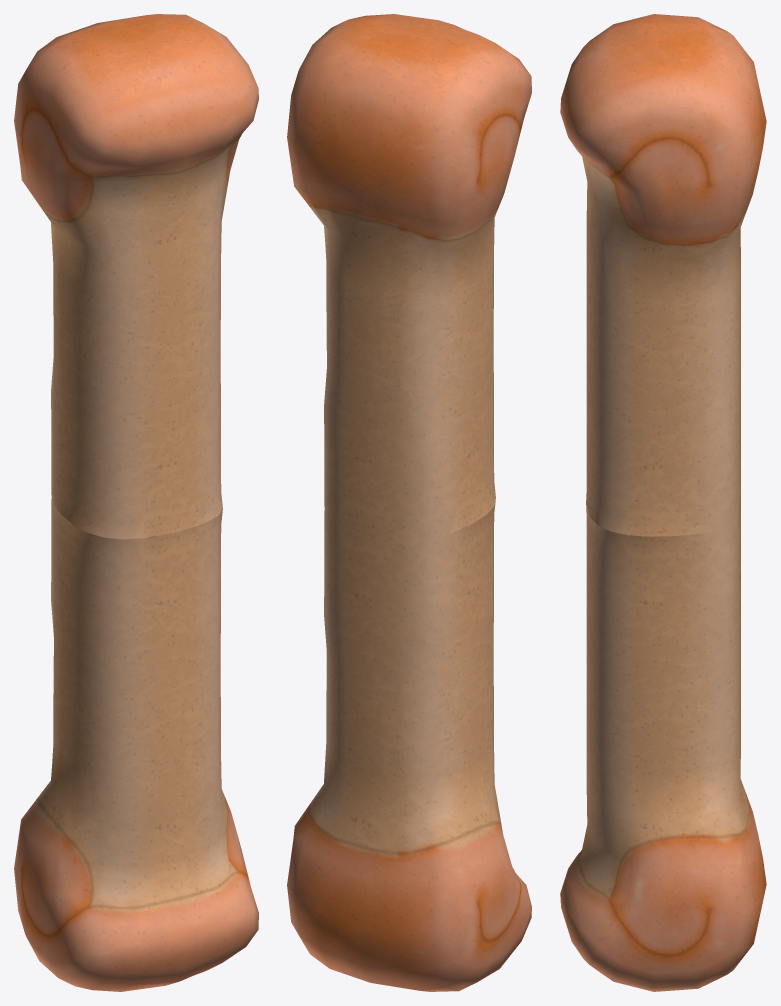
The model's file is columnaDoble.fbx.
3 renders of one model, left to right at view 1: azimuth 30°, elevation 25°; view 2: azimuth 150°, elevation 25°; view 3: azimuth 270°, elevation 25°, orthographic.
Parts seen in each view (by area): view 1: Group27273; view 2: Group27273; view 3: Group27273.
Boxes of the visible parts, x1=… form: Group27273: x1=14, y1=14, x2=258, y2=991; Group27273: x1=287, y1=14, x2=531, y2=991; Group27273: x1=560, y1=14, x2=766, y2=991.
Size of the model in its own units: 48.76 by 224 by 45.4.
1 material, 1 textured.
